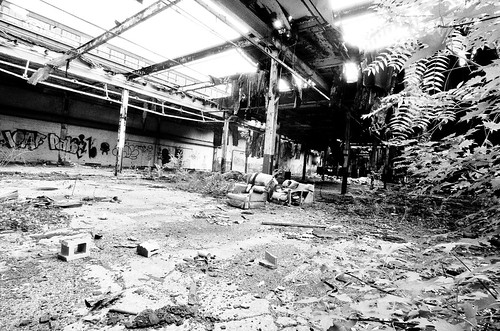graffiti: (1, 118, 111, 165)
trash: (51, 167, 335, 331)
vegetation: (359, 1, 500, 249)
